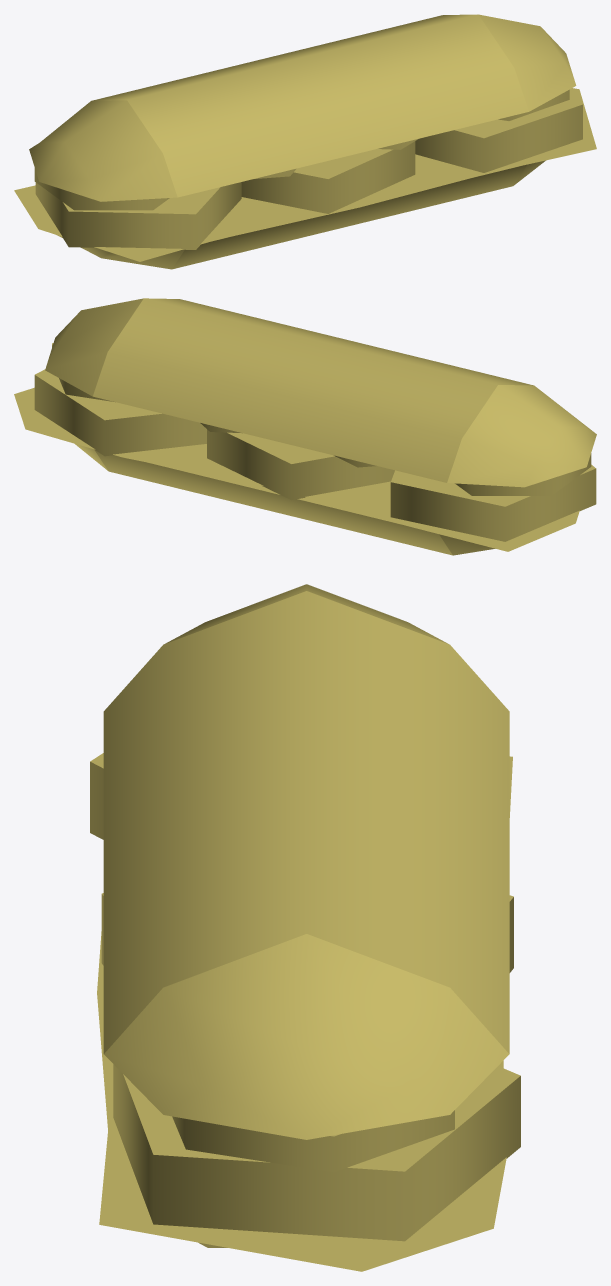
Rendered from SM_Po'boy.fbx.
The picture shows the model from 3 angles, top to bottom: view 1: azimuth 30°, elevation 25°; view 2: azimuth 150°, elevation 25°; view 3: azimuth 270°, elevation 25°; orthographic projection. The views are drawn at different scales.
Visible parts, largest first — view 1: Bread, Prawns, Lettuce, Tomatoes; view 2: Bread, Prawns, Lettuce, Tomatoes; view 3: Bread, Prawns, Lettuce, Tomatoes.
Part boxes in pixels (bbox=[...]): Bread: bbox=[29, 14, 576, 269]; Prawns: bbox=[35, 90, 582, 249]; Lettuce: bbox=[14, 88, 596, 261]; Tomatoes: bbox=[34, 89, 569, 210]; Bread: bbox=[45, 298, 596, 555]; Prawns: bbox=[34, 369, 596, 541]; Lettuce: bbox=[14, 387, 579, 551]; Tomatoes: bbox=[52, 343, 591, 495]; Bread: bbox=[103, 584, 509, 1247]; Prawns: bbox=[90, 753, 520, 1241]; Lettuce: bbox=[97, 756, 512, 1271]; Tomatoes: bbox=[172, 1110, 454, 1172].
Bounding box in the file's own units: 32.46 × 8.18 × 10.92.
